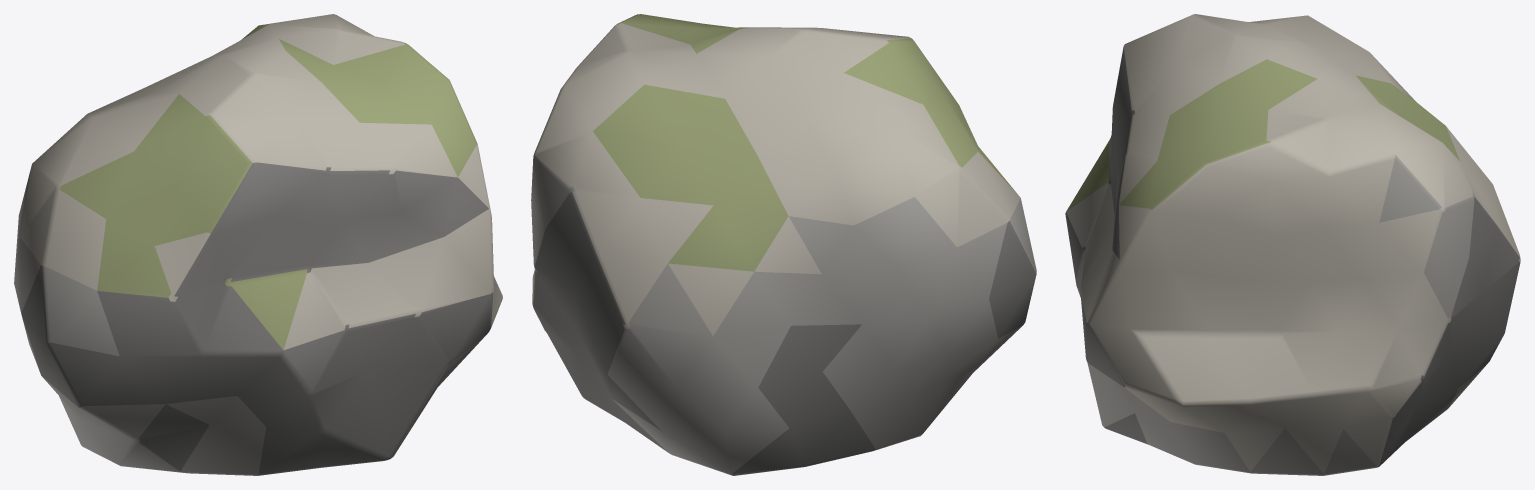
The model's file is boulder.glb.
3 views of the same model, side by side, from view 1: azimuth 30°, elevation 25°; view 2: azimuth 150°, elevation 25°; view 3: azimuth 270°, elevation 25° (orthographic).
Visible parts, largest first — view 1: boulder; view 2: boulder; view 3: boulder.
Part boxes in pixels (box(x1,y1,x2,y2)): boulder: box(14, 14, 502, 475); boulder: box(531, 14, 1036, 475); boulder: box(1065, 14, 1520, 475).
Bounding box in the file's own units: 2.14 × 1.7 × 1.89.
